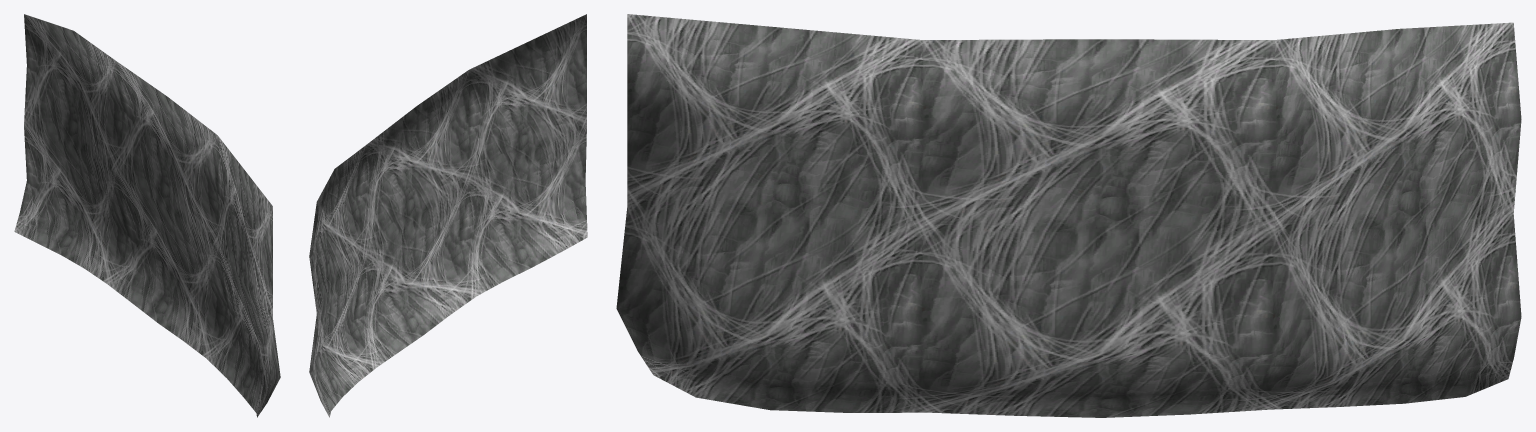
The model's file is SWORDLIGHT20_PS-AREA01_32.fbx.
The picture shows the model from 3 angles, left to right: view 1: azimuth 30°, elevation 25°; view 2: azimuth 150°, elevation 25°; view 3: azimuth 270°, elevation 25°; orthographic projection. The views are drawn at different scales.
Visible parts, largest first — view 1: SWORDLIGHT20_PS-AREA01_32; view 2: SWORDLIGHT20_PS-AREA01_32; view 3: SWORDLIGHT20_PS-AREA01_32.
Boxes of the visible parts, x1,y1,x2,y2 form: SWORDLIGHT20_PS-AREA01_32: [14, 14, 280, 417]; SWORDLIGHT20_PS-AREA01_32: [309, 14, 587, 417]; SWORDLIGHT20_PS-AREA01_32: [616, 14, 1521, 417].
Bounding box in the file's own units: 20752 × 87832 × 183577.
Materials: 1 (1 with a texture image).
